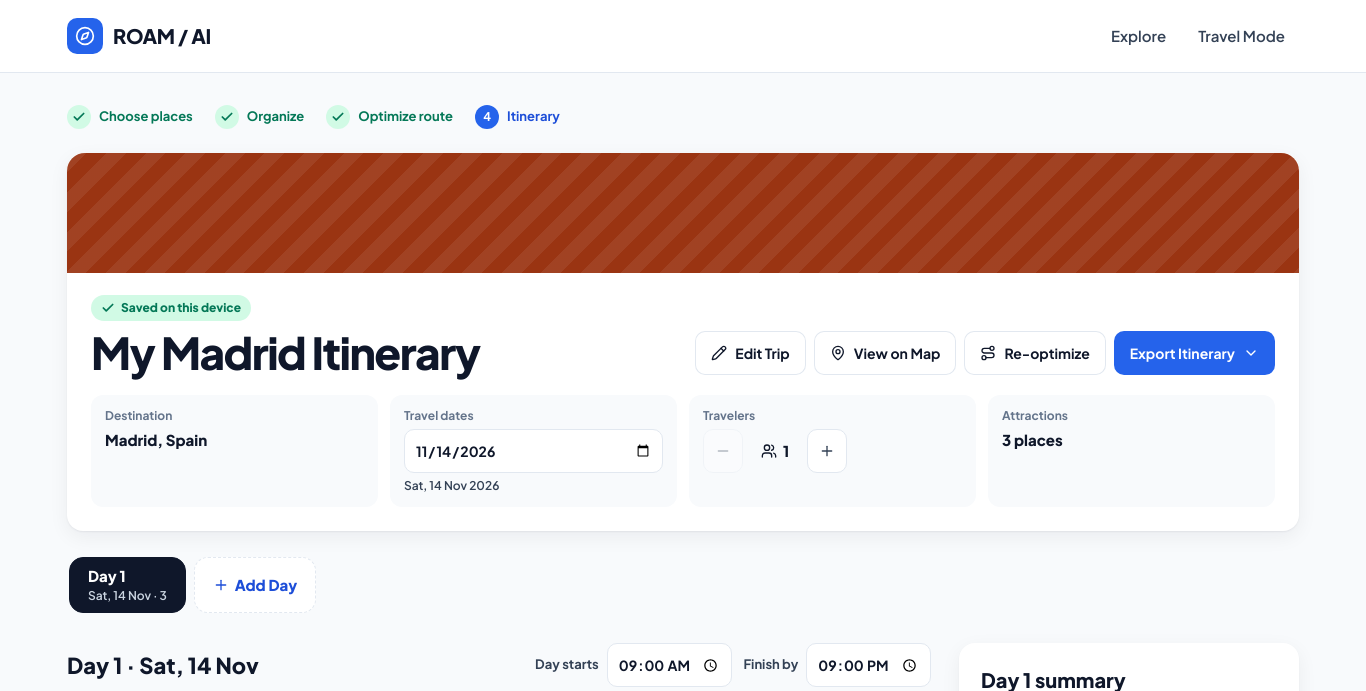
Test: ItineraryPage › removes an empty day
What coordinates should you click on to do the following:
click the button "Add Day"
I would click on:
 (255, 585)
Its box is [194,557,316,613].
(page scrolled)
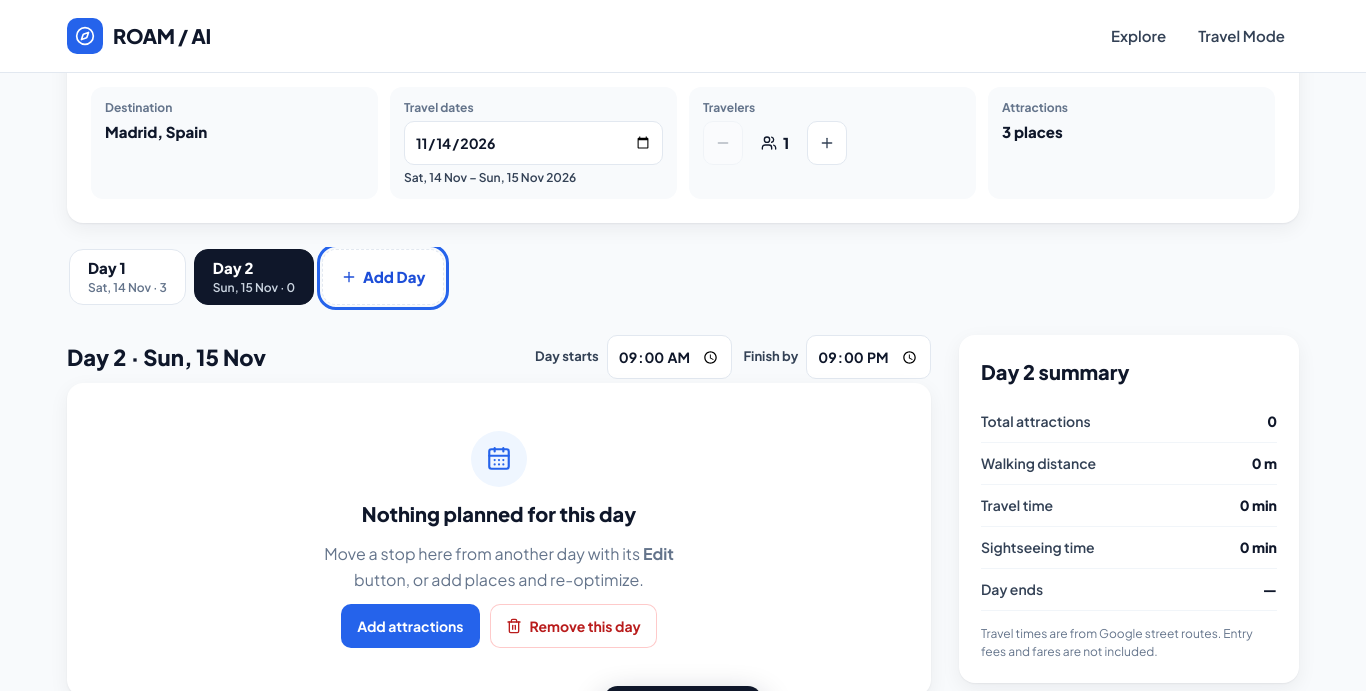
Expected: the heading "Nothing planned for this day" is shown, [362,499,636,529]
What coordinates should you click on to do the following:
click the button "Remove this day"
I would click on:
 (573, 626)
Its box is [490,604,657,648].
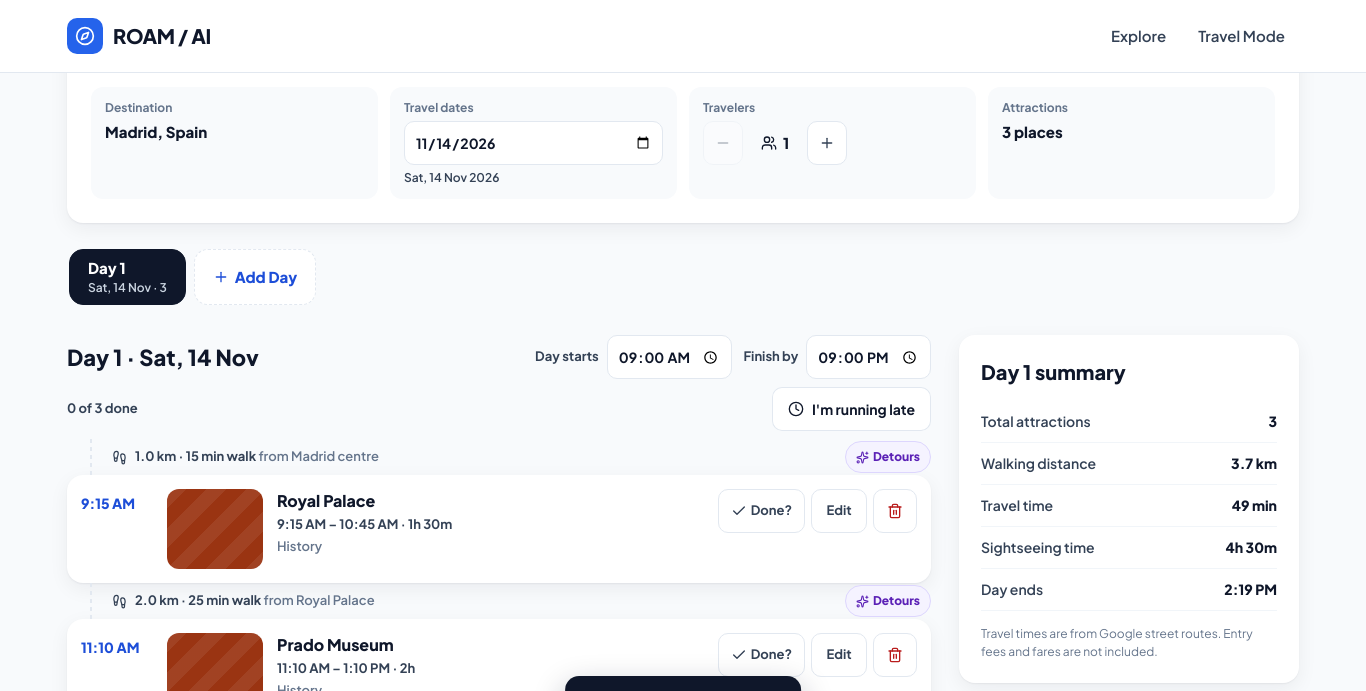
Expected: the number of tabs is 1, [69,249,186,305]
